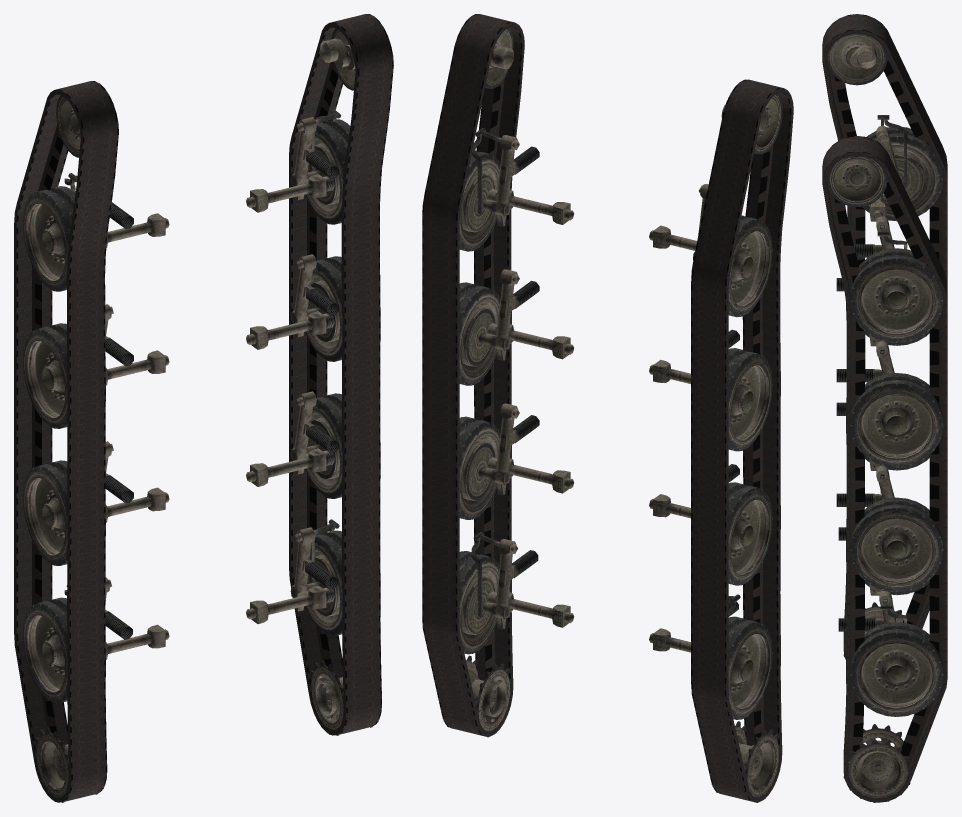
Rendered from Chassis.glb.
3 views of the same model, side by side, from view 1: azimuth 30°, elevation 25°; view 2: azimuth 150°, elevation 25°; view 3: azimuth 270°, elevation 25° (orthographic). The views are drawn at different scales.
Parts seen in each view (by area): view 1: set_1_group_0, set_0_group_0, set_2_group_0, set_3_group_0; view 2: set_1_group_0, set_0_group_0, set_3_group_0, set_2_group_0; view 3: set_3_group_0, set_0_group_0, set_1_group_0, set_2_group_0.
Boxes of the visible parts, x1,y1,x2,y2 form: set_1_group_0: (14,81,118,802); set_0_group_0: (289,14,393,735); set_2_group_0: (22,95,169,802); set_3_group_0: (246,28,381,735); set_1_group_0: (691,79,793,802); set_0_group_0: (422,14,524,736); set_3_group_0: (442,28,574,737); set_2_group_0: (649,93,782,802); set_3_group_0: (827,156,943,802); set_0_group_0: (822,136,947,802); set_1_group_0: (822,14,947,659); set_2_group_0: (827,34,943,656).
Bounding box in the file's own units: 2.95 × 6.51 × 1.14.
4 materials, 4 textured.
